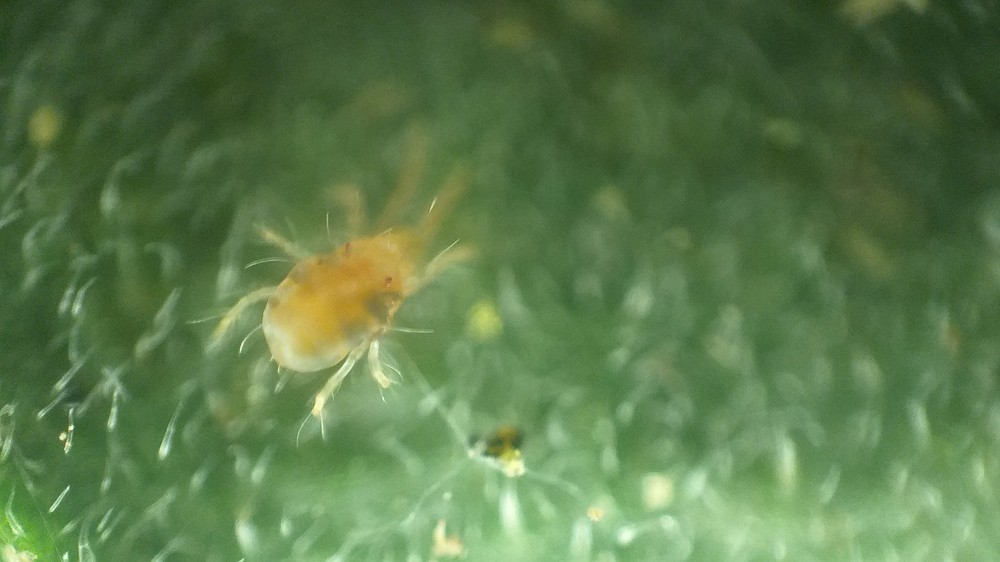Aracnido Rojo: (191, 146, 513, 435)
